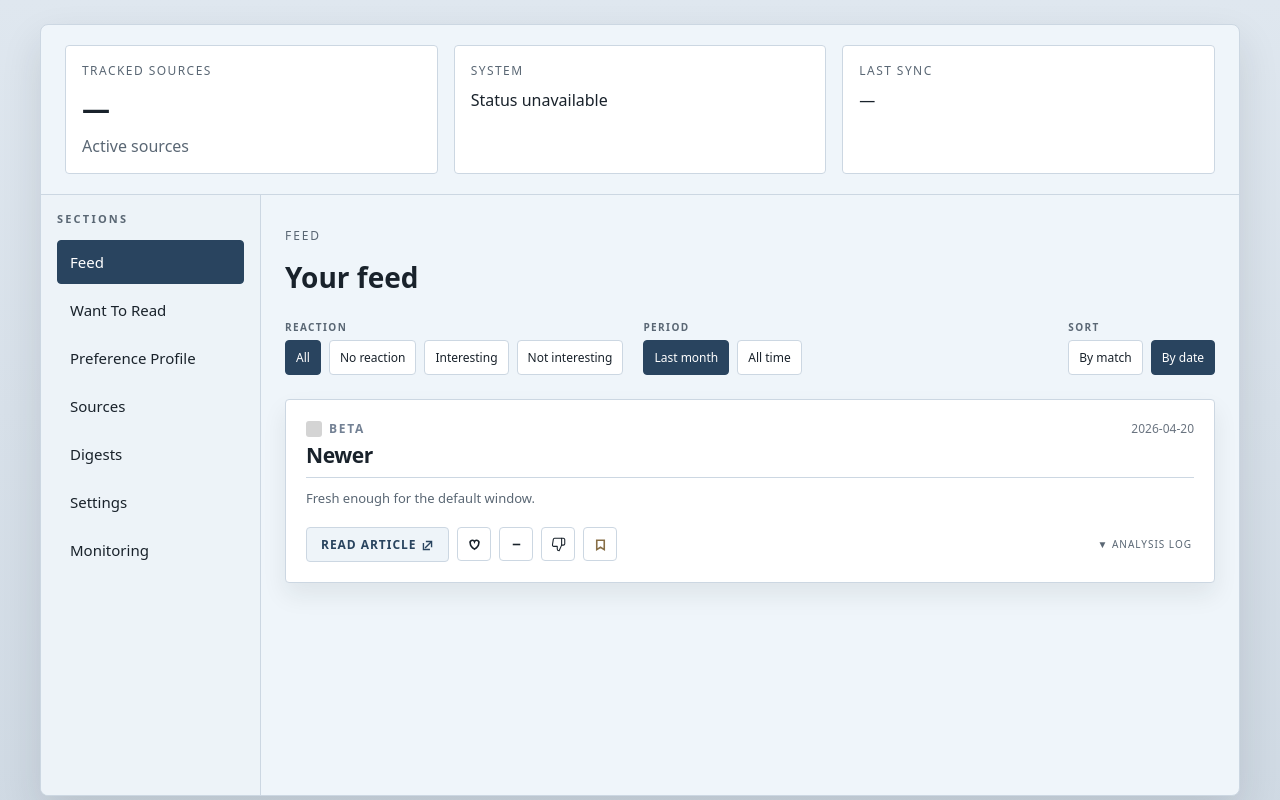
Test case: feed save flows through to the want to read tab
Check: the heading "Newer" is shown, box [306,443,373,467]
Click the button named "Save to Read Later" at (600, 544), box [583,527,617,561]
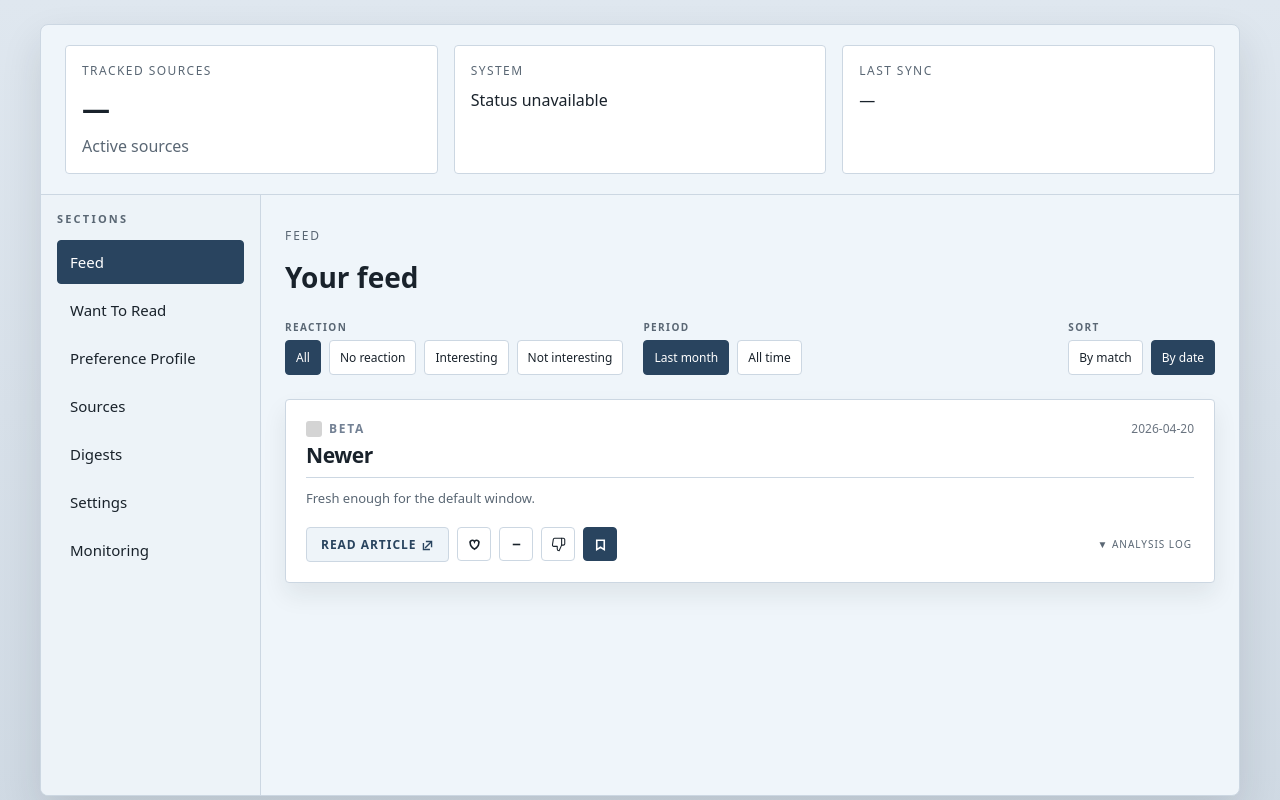
Click the button "Want To Read" at (150, 310), box [57,288,244,332]
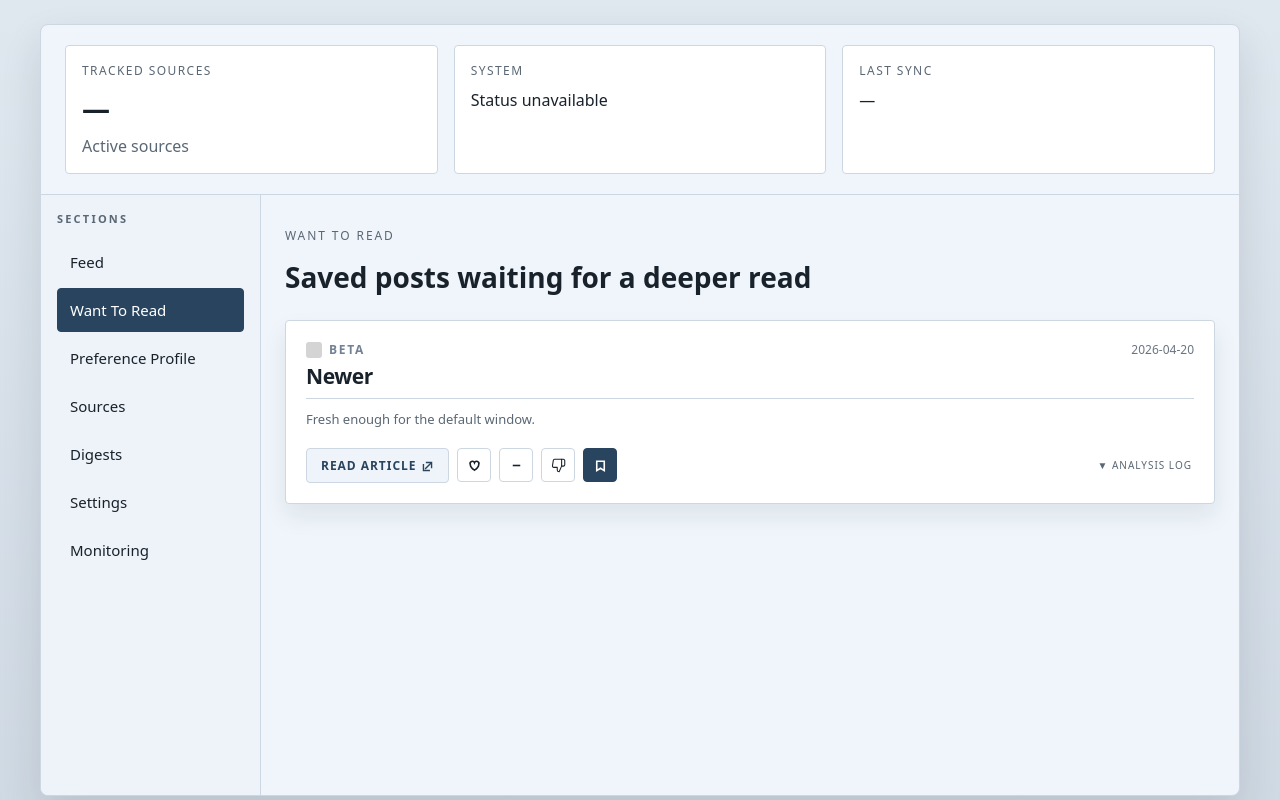
Check: the heading "Newer" is shown, box [306,364,373,388]
Check: the button named "Remove from Read Later" is shown, box [583,448,617,482]
